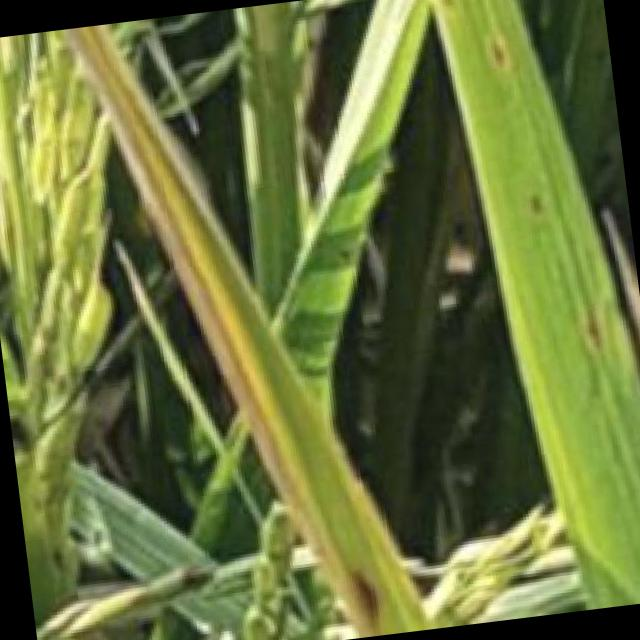Rice_Bacterial_Blight: (52, 4, 377, 581)
